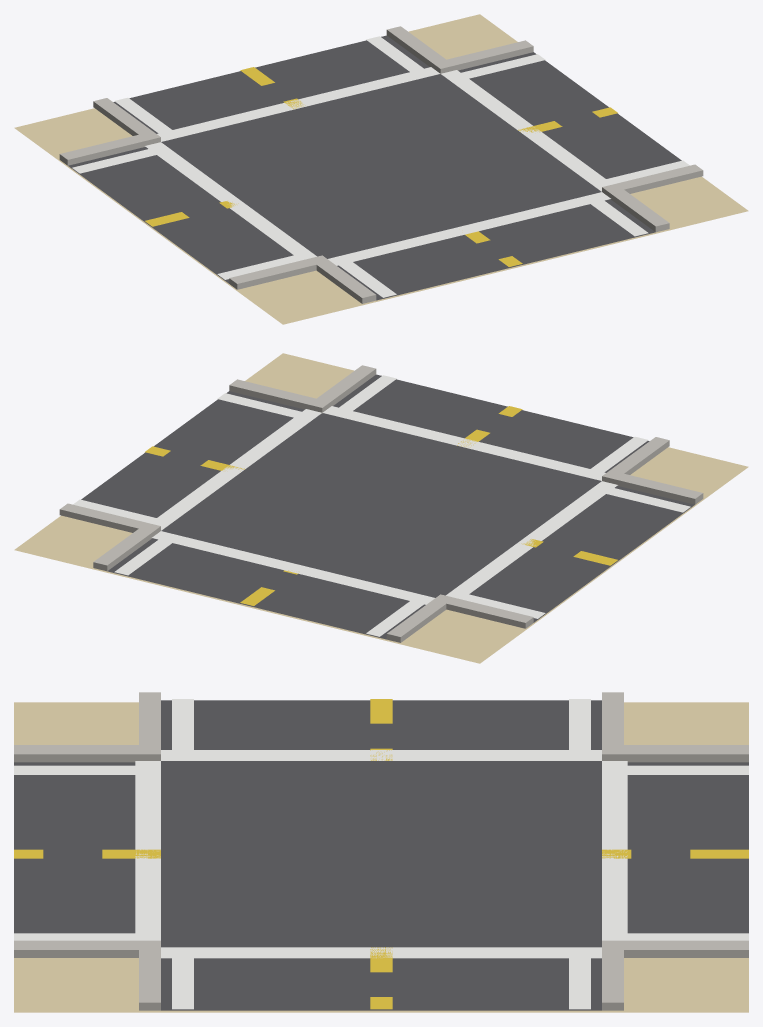
Rendered from comic-road-intersection.glb.
The picture shows the model from 3 angles, top to bottom: view 1: azimuth 30°, elevation 25°; view 2: azimuth 150°, elevation 25°; view 3: azimuth 270°, elevation 25°; orthographic projection. The views are drawn at different scales.
Visible parts, largest first — view 1: road_intersection; view 2: road_intersection; view 3: road_intersection.
Boxes of the visible parts, box(x1,y1,x2,y2) form: road_intersection: box(14, 14, 748, 324); road_intersection: box(14, 353, 748, 663); road_intersection: box(14, 692, 748, 1012).
Size of the model in its own units: 10 by 0.15 by 10.
